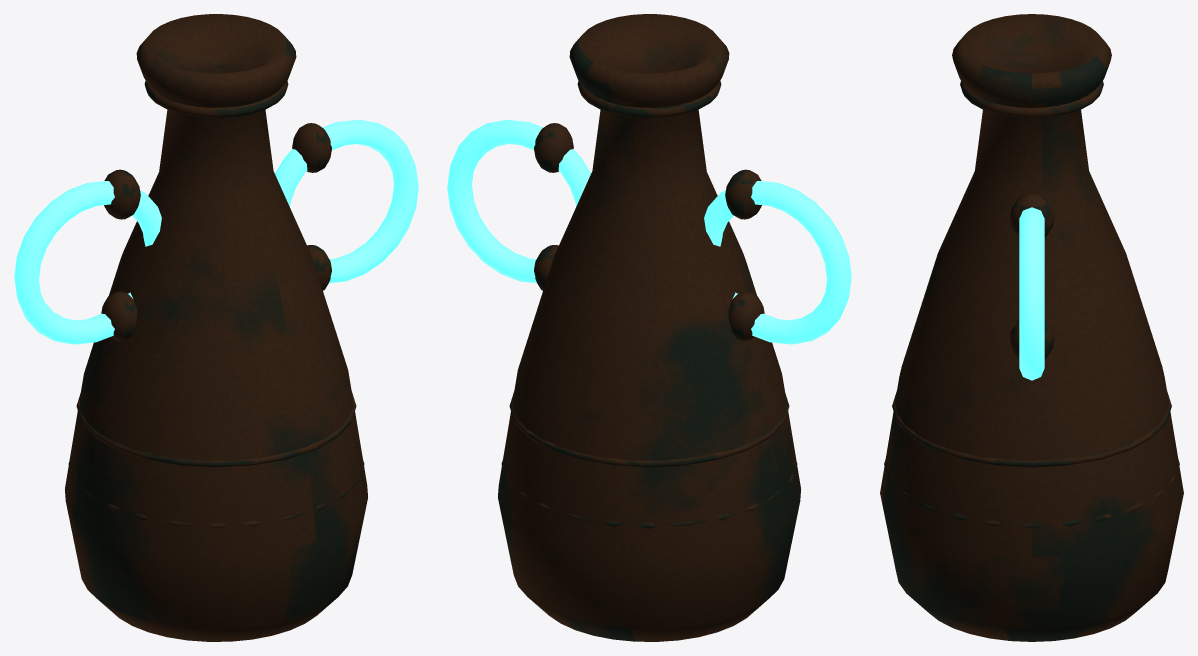
The model's file is amphora.fbx.
3 views of the same model, side by side, from view 1: azimuth 30°, elevation 25°; view 2: azimuth 150°, elevation 25°; view 3: azimuth 270°, elevation 25° (orthographic).
Visible parts, largest first — view 1: TH10_Amphora_Body, TH10_Amphora_Handle, TH10_Amphora_Handle.001, TH10_Amphora_Band.001, TH10_Amphora_Neck, TH10_Amphora_HandleMount.002, TH10_Amphora_HandleMount, TH10_Amphora_HandleMount.001, TH10_Amphora_Band, TH10_Amphora_HandleMount.003; view 2: TH10_Amphora_Body, TH10_Amphora_Handle, TH10_Amphora_Handle.001, TH10_Amphora_Band.001, TH10_Amphora_Neck, TH10_Amphora_HandleMount.002, TH10_Amphora_HandleMount, TH10_Amphora_HandleMount.001, TH10_Amphora_Band, TH10_Amphora_HandleMount.003; view 3: TH10_Amphora_Body, TH10_Amphora_Handle.001, TH10_Amphora_Band.001, TH10_Amphora_Neck, TH10_Amphora_HandleMount.002, TH10_Amphora_Band, TH10_Amphora_HandleMount.003.
Boxes of the visible parts, x1,y1,x2,y2 form: TH10_Amphora_Body: [65, 14, 367, 641]; TH10_Amphora_Handle: [14, 181, 161, 344]; TH10_Amphora_Handle.001: [275, 120, 418, 283]; TH10_Amphora_Band.001: [76, 391, 356, 467]; TH10_Amphora_Neck: [144, 81, 288, 117]; TH10_Amphora_HandleMount.002: [292, 123, 331, 172]; TH10_Amphora_HandleMount: [104, 169, 140, 219]; TH10_Amphora_HandleMount.001: [101, 291, 137, 341]; TH10_Amphora_Band: [68, 459, 364, 528]; TH10_Amphora_HandleMount.003: [307, 245, 331, 290]; TH10_Amphora_Body: [498, 14, 800, 641]; TH10_Amphora_Handle: [704, 181, 851, 344]; TH10_Amphora_Handle.001: [447, 120, 590, 283]; TH10_Amphora_Band.001: [509, 391, 789, 467]; TH10_Amphora_Neck: [577, 81, 721, 117]; TH10_Amphora_HandleMount.002: [534, 123, 573, 172]; TH10_Amphora_HandleMount: [725, 169, 761, 219]; TH10_Amphora_HandleMount.001: [728, 291, 764, 341]; TH10_Amphora_Band: [501, 459, 797, 528]; TH10_Amphora_HandleMount.003: [534, 245, 558, 290]; TH10_Amphora_Body: [880, 14, 1183, 641]; TH10_Amphora_Handle.001: [1019, 207, 1044, 380]; TH10_Amphora_Band.001: [892, 391, 1171, 467]; TH10_Amphora_Neck: [960, 81, 1103, 117]; TH10_Amphora_HandleMount.002: [1009, 193, 1054, 237]; TH10_Amphora_Band: [884, 459, 1179, 527]; TH10_Amphora_HandleMount.003: [1009, 320, 1054, 359].
Bounding box in the file's own units: 0.29 × 0.38 × 0.19.
2 materials, 1 textured.
